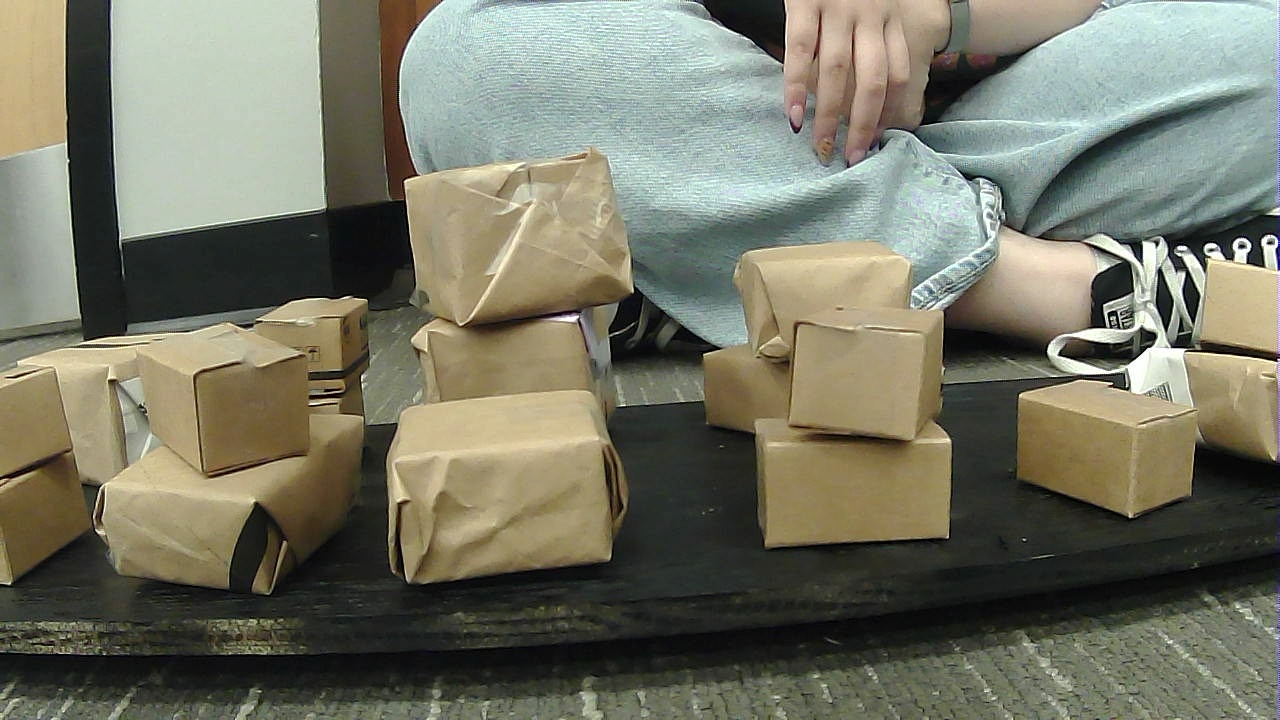package: (115, 395, 354, 585), (378, 398, 616, 571), (401, 151, 636, 302), (126, 322, 311, 469), (755, 418, 967, 544), (1026, 373, 1200, 522), (422, 315, 620, 433), (737, 243, 938, 359), (703, 340, 925, 445), (23, 327, 159, 480), (792, 304, 939, 430), (1177, 345, 1278, 472), (266, 276, 377, 380), (8, 480, 100, 596), (5, 362, 81, 479), (1194, 253, 1268, 348)
stacked: (98, 316, 365, 597), (394, 170, 634, 433), (718, 229, 949, 427), (748, 323, 960, 538), (1169, 254, 1278, 459), (4, 363, 97, 591)
